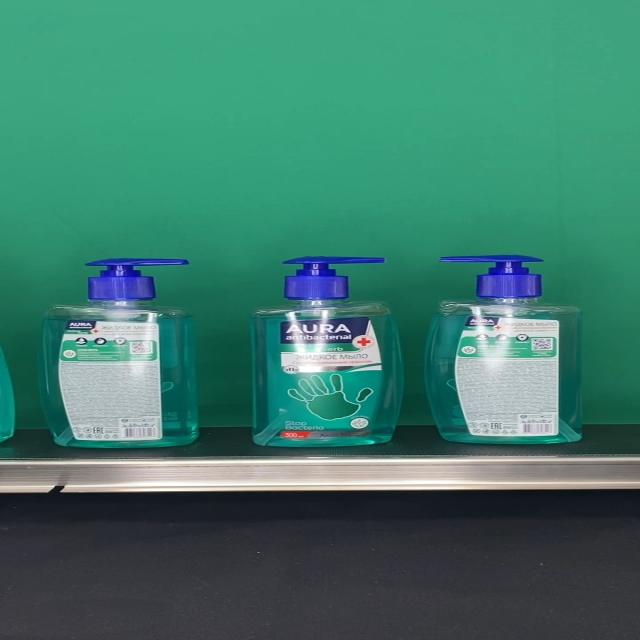Bottle: (40, 258, 201, 448), (422, 255, 582, 444), (248, 257, 403, 448)
Cap: (438, 255, 544, 298), (284, 257, 388, 300), (85, 258, 188, 300)
